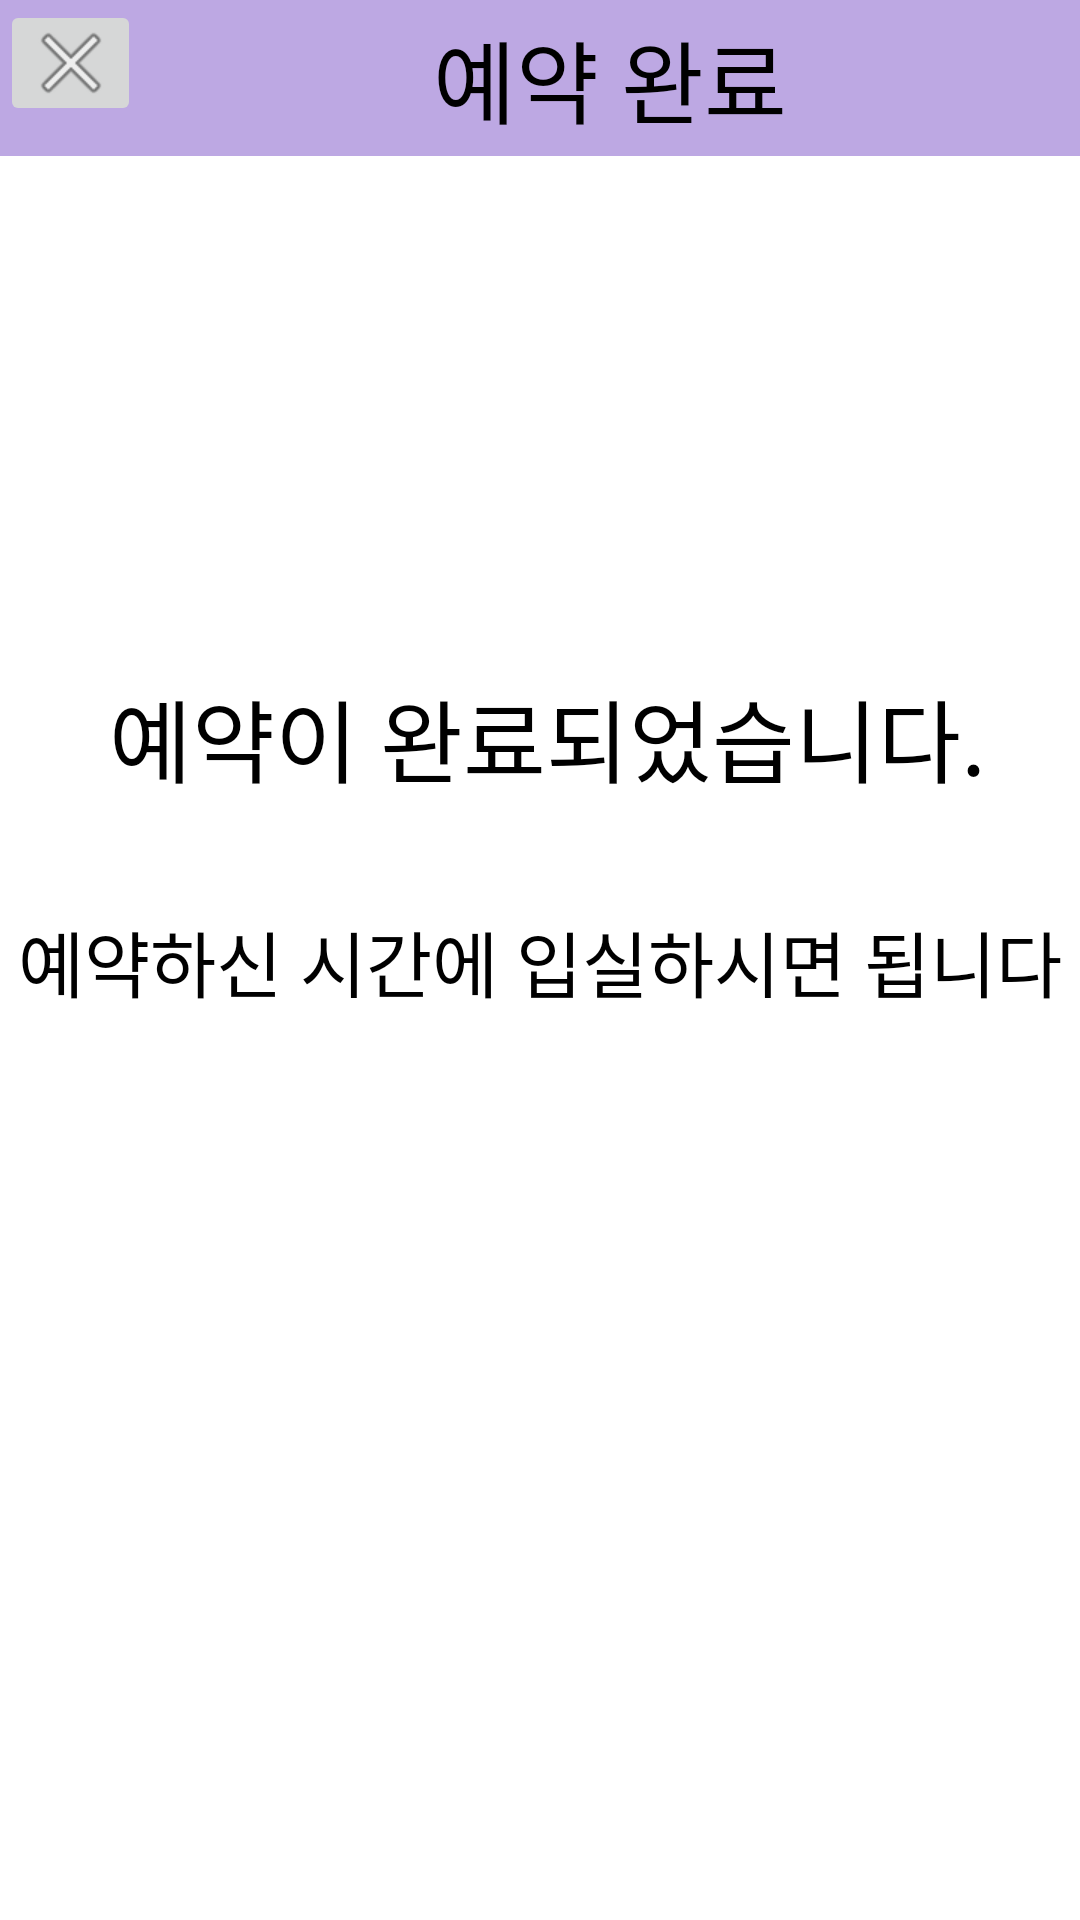

Named icons in this screenshot (1080*1920) and their centers, (x=x, y=y):
close clear cancel: (x=70, y=63)
